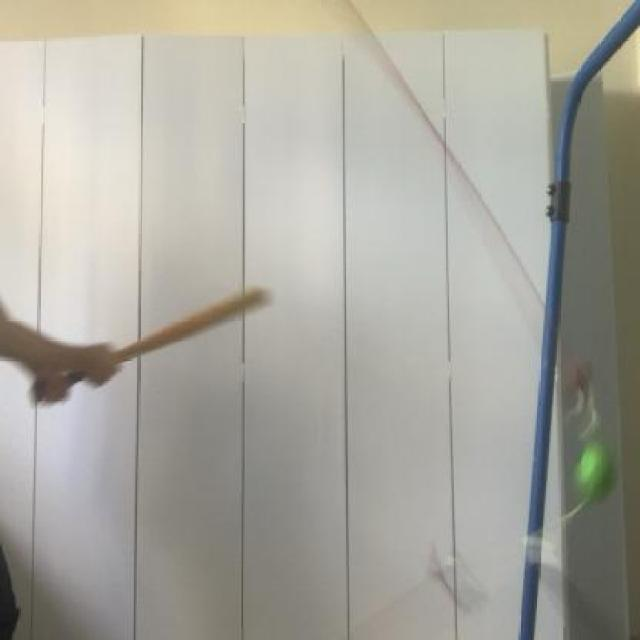baseball: (563, 429, 625, 509)
